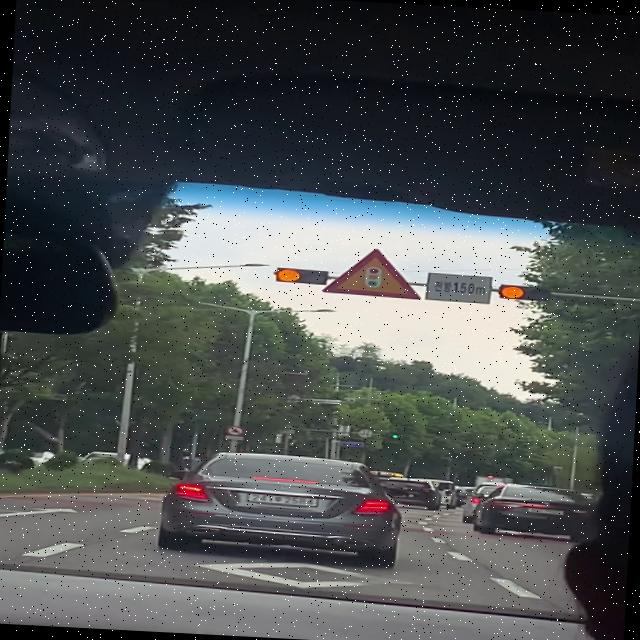yellow_light: (276, 269, 327, 285), (501, 285, 551, 301)
